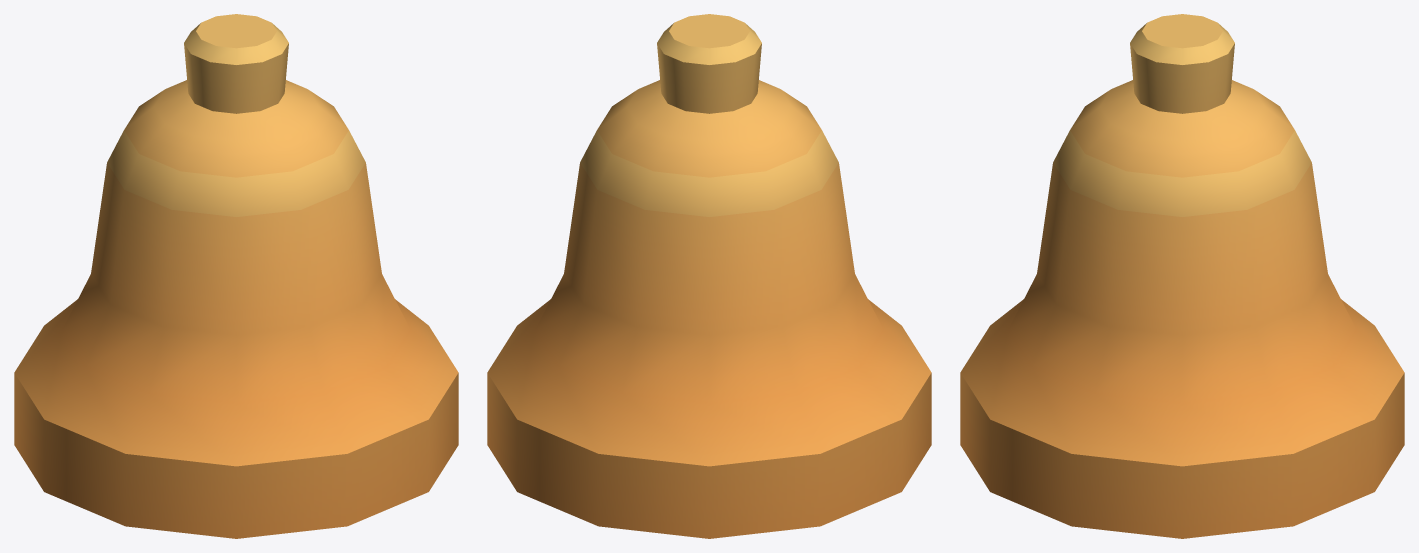
The model's file is bell.obj.
3 renders of one model, left to right at view 1: azimuth 30°, elevation 25°; view 2: azimuth 150°, elevation 25°; view 3: azimuth 270°, elevation 25°, orthographic.
Parts seen in each view (by area): view 1: bell; view 2: bell; view 3: bell.
Part boxes in pixels (bbox=[...]): bell: bbox=[14, 14, 458, 538]; bell: bbox=[487, 14, 931, 538]; bell: bbox=[960, 14, 1404, 538].
Bounding box in the file's own units: 0.806 × 0.8288 × 0.806.
1 material, 1 textured.
